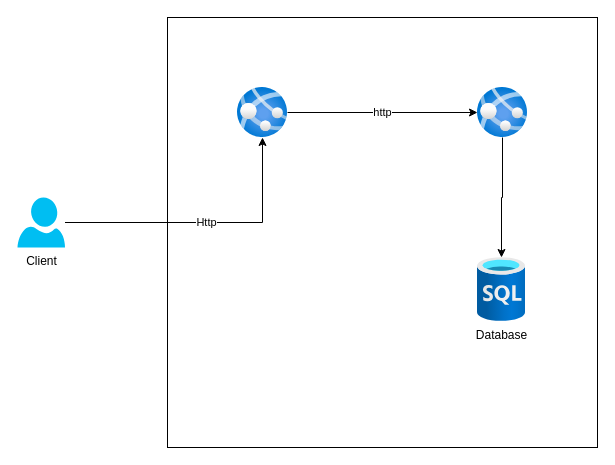
Image size: 615x465. Some labels were removed from this diagram. Each missing label, with the centre of its shape:
"Backend" belongs at point 502,112.
"Frontend" belongs at point 262,112.
